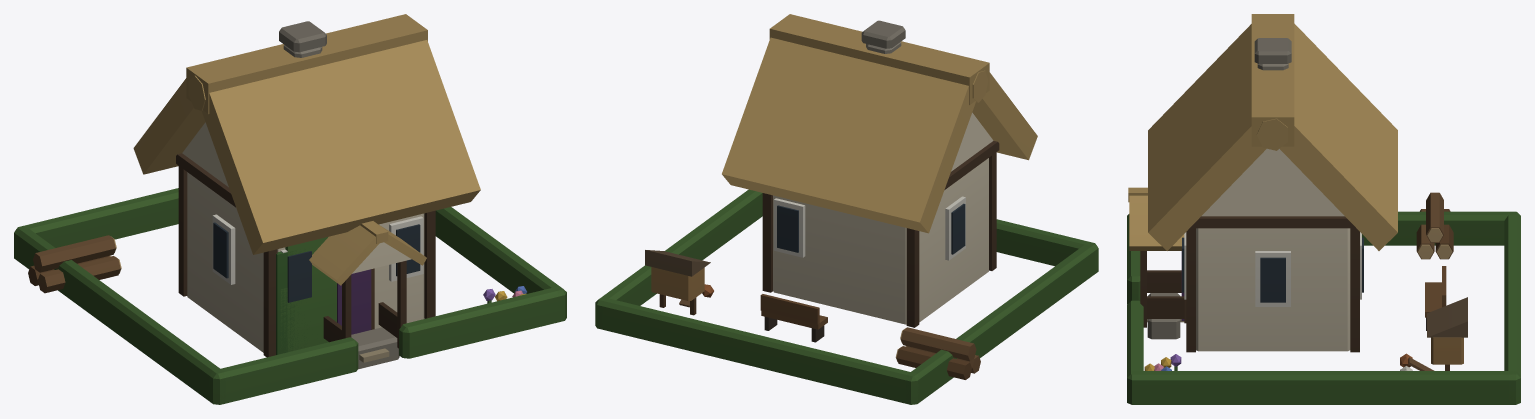
Rendered from house.glb.
3 renders of one model, left to right at view 1: azimuth 30°, elevation 25°; view 2: azimuth 150°, elevation 25°; view 3: azimuth 270°, elevation 25°, orthographic. The views are drawn at different scales.
Parts seen in each view (by area): view 1: house_model; view 2: house_model; view 3: house_model.
Part boxes in pixels (x1,y1,x2,y2): house_model: (14, 14, 566, 404); house_model: (595, 14, 1098, 404); house_model: (1127, 14, 1520, 404).
Bounding box in the file's own units: 0.9147 × 0.6791 × 0.8694.
